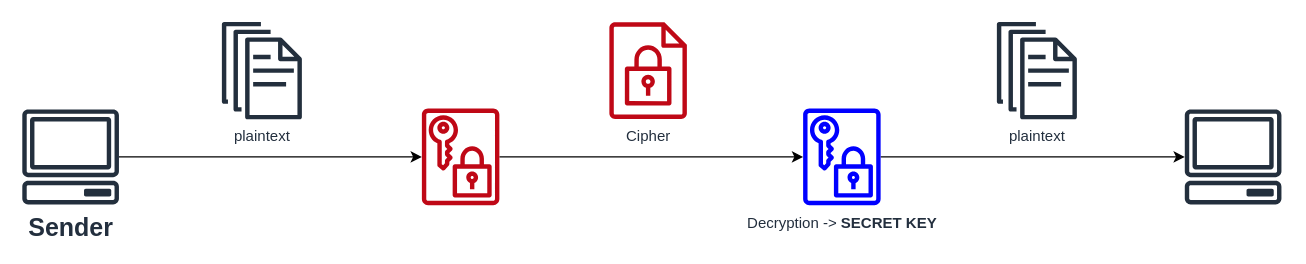
This 1306x264 diagram has some shape labels left out. The shapes that lost their labels are listed below. From the top down, each one's centre as x and y in pixels, then its label:
the point at 460,156: Encryption -> SECRET KEY
the point at 1232,156: Receiver
